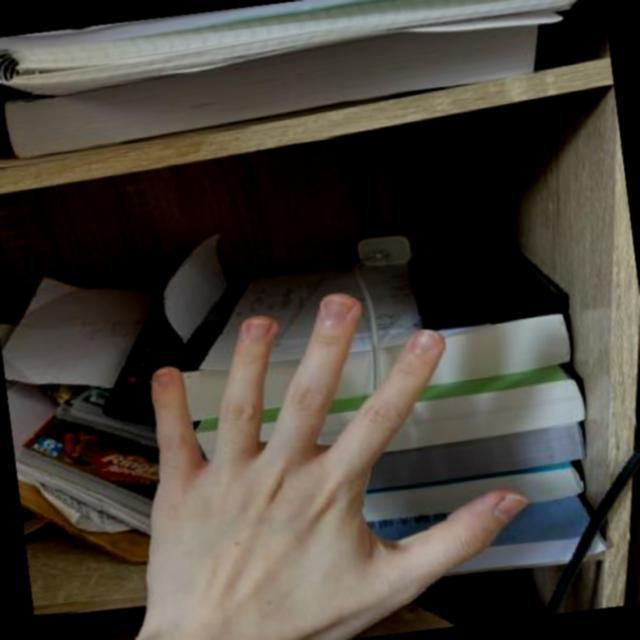hand: (142, 284, 536, 590)
